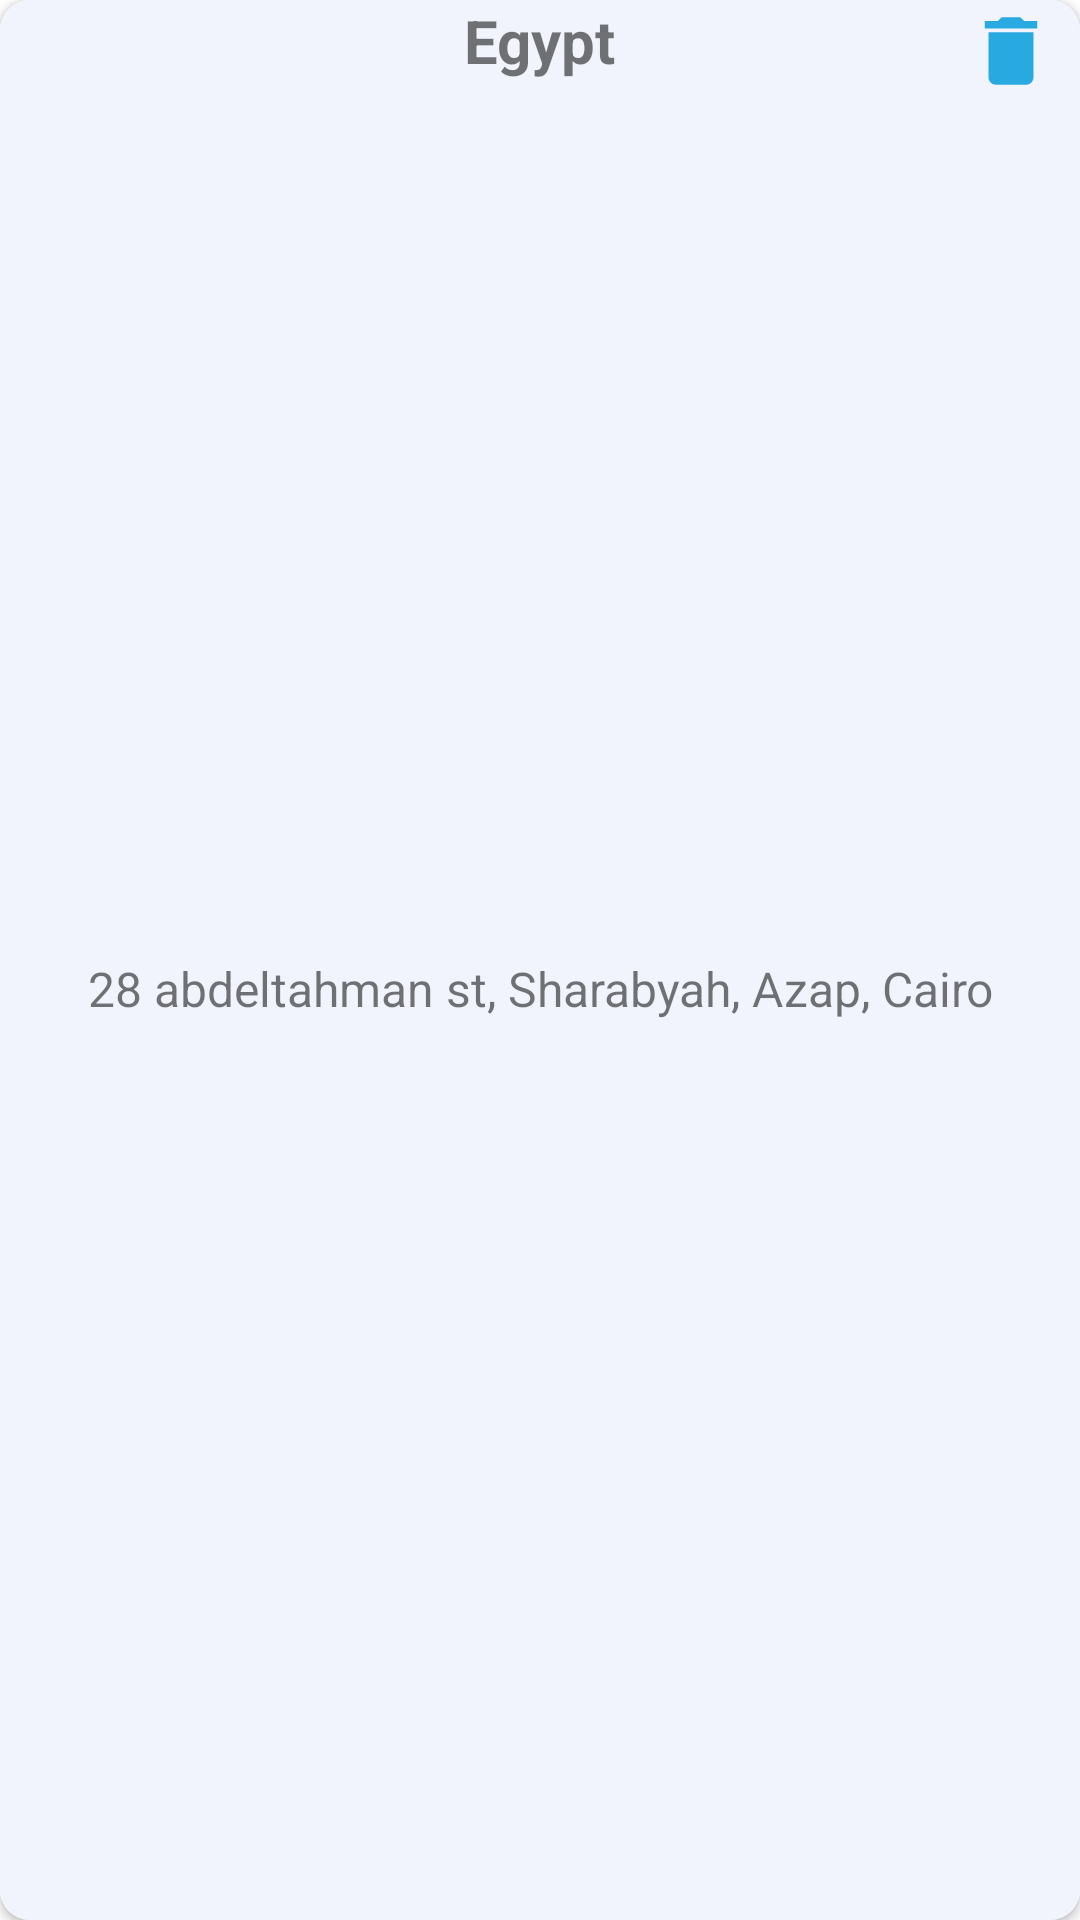

Where icons sit on this 1080px x 1920px app screen, as Rect(x1, y1, x2, y2):
delete: Rect(984, 17, 1038, 85)
